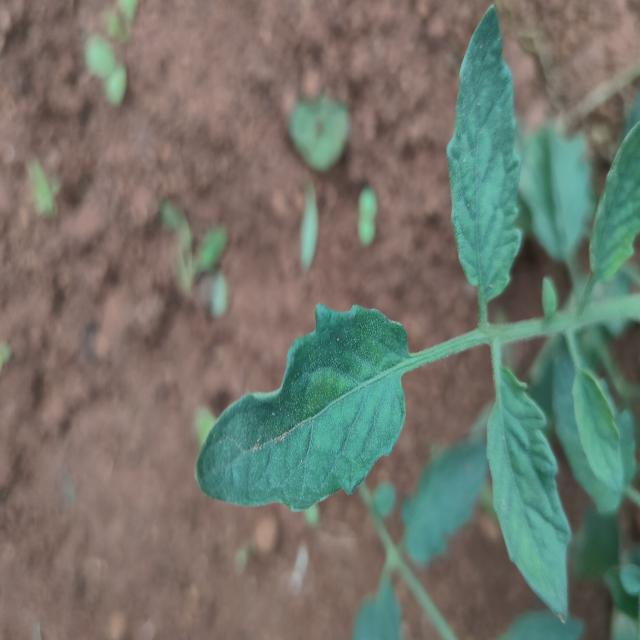tomato_healthy: (195, 302, 418, 515), (483, 350, 574, 622), (447, 1, 522, 300), (574, 352, 622, 501)
